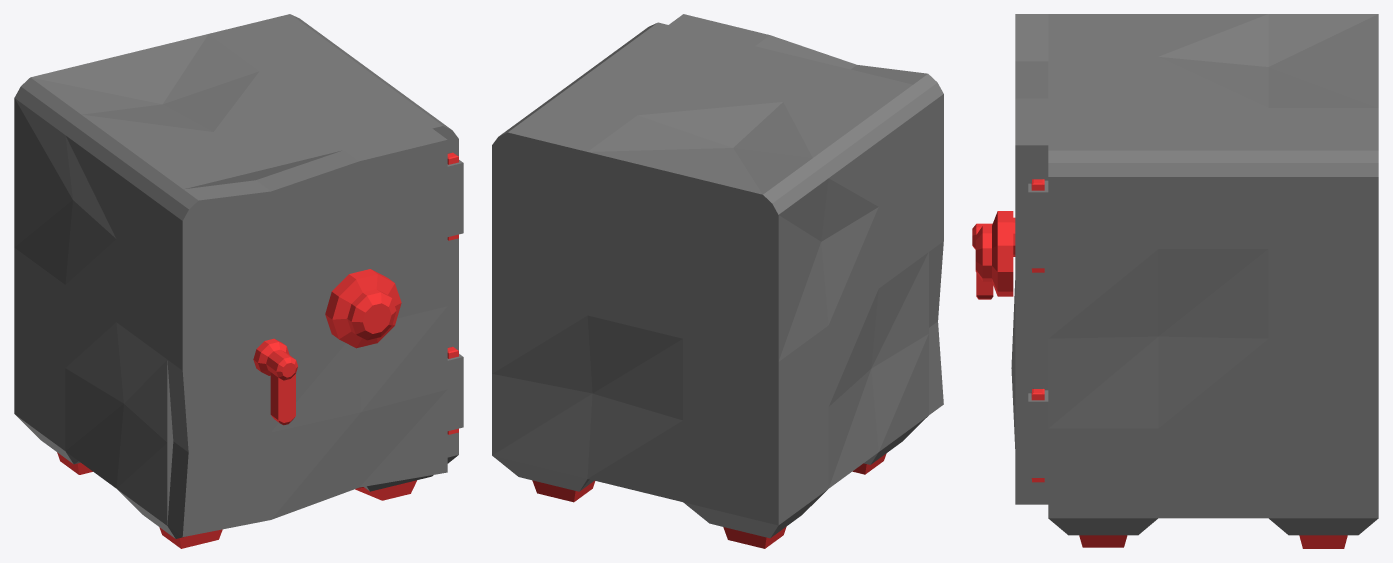
The model's file is Coffre.FBX.
The picture shows the model from 3 angles, left to right: view 1: azimuth 30°, elevation 25°; view 2: azimuth 150°, elevation 25°; view 3: azimuth 270°, elevation 25°; orthographic projection. The views are drawn at different scales.
Parts seen in each view (by area): view 1: Box001; view 2: Box001; view 3: Box001.
Boxes of the visible parts, x1,y1,x2,y2 form: Box001: (14, 14, 463, 548); Box001: (492, 14, 943, 548); Box001: (972, 14, 1378, 548).
Size of the model in its own units: 21.65 by 26.66 by 24.21.
